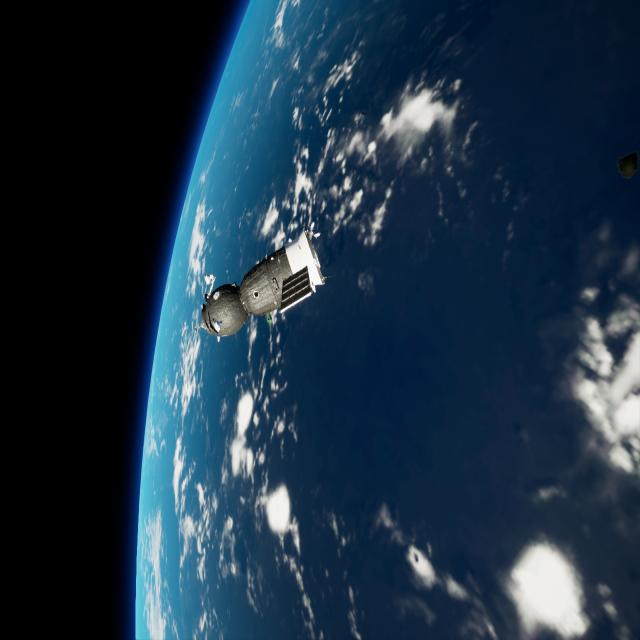Satellites revolving around earth: (196, 224, 328, 345)
